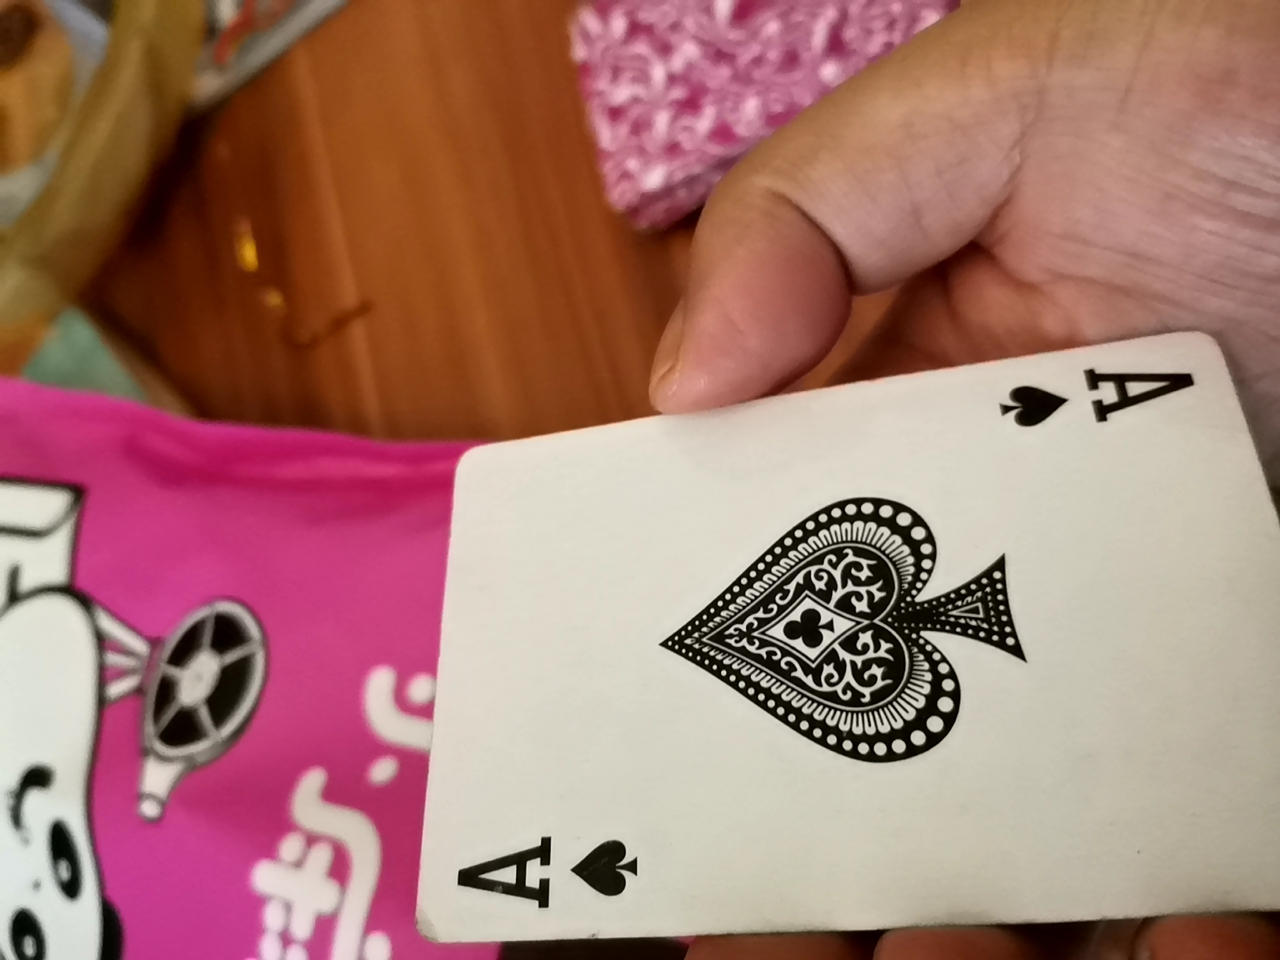ht a: (370, 317, 1280, 952)
